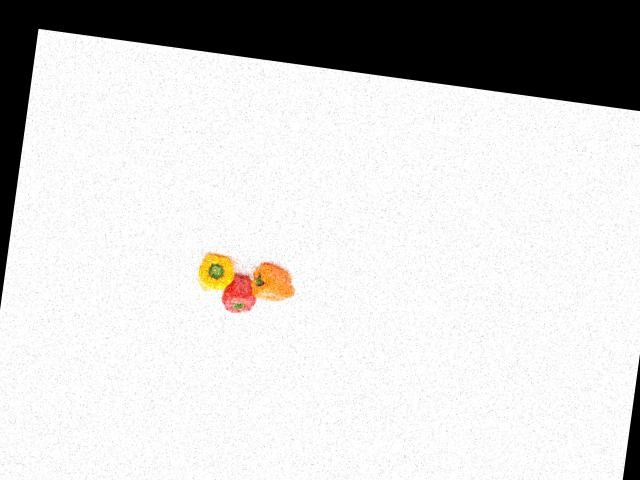bell_pepper: (193, 251, 241, 296)
